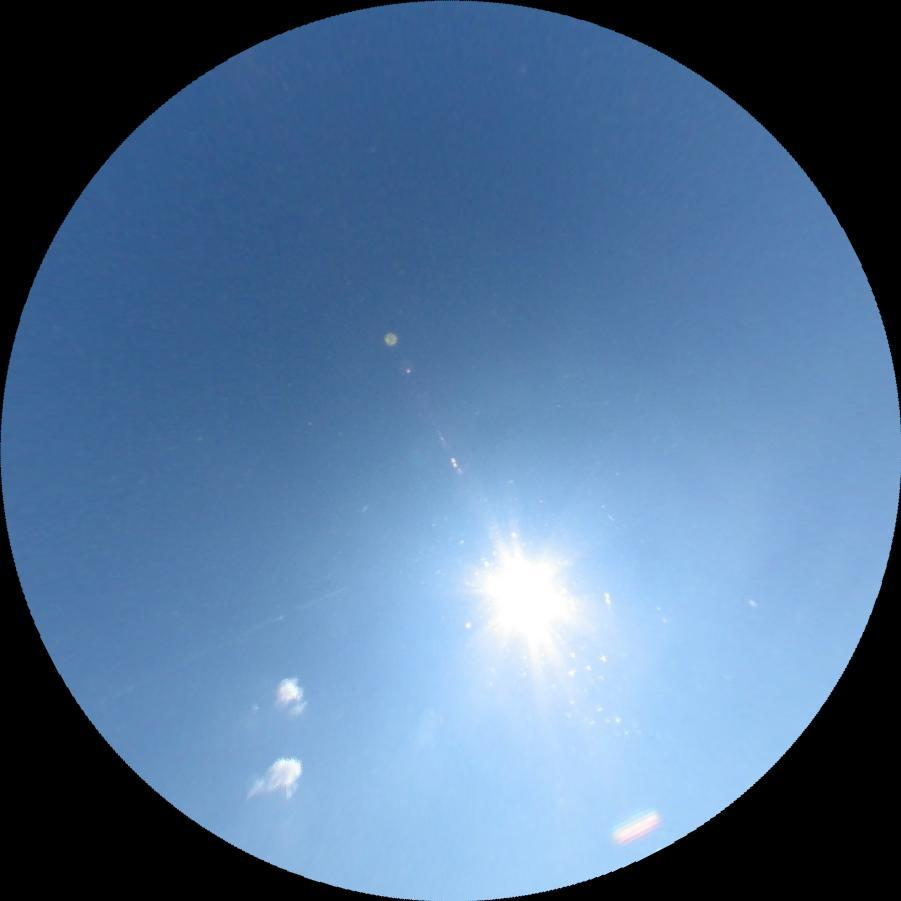sun: (454, 528, 597, 666)
